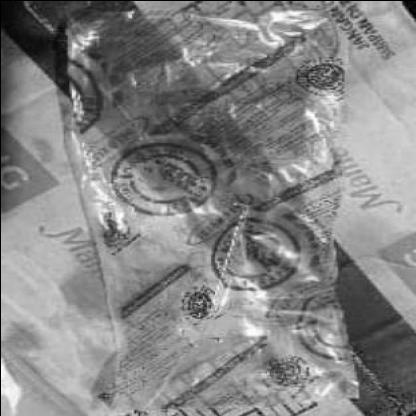objects: (48, 2, 361, 416)
